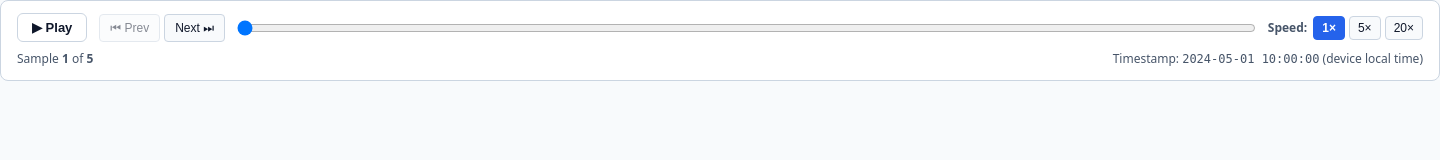
Test: Replay Player Component & Controls (T16-010) › plays at 1x speed, advances samples, and pauses automatically at the end
Click the button named "play replay" at (52, 28), box [17,13,87,42]
Wait 5000 ms
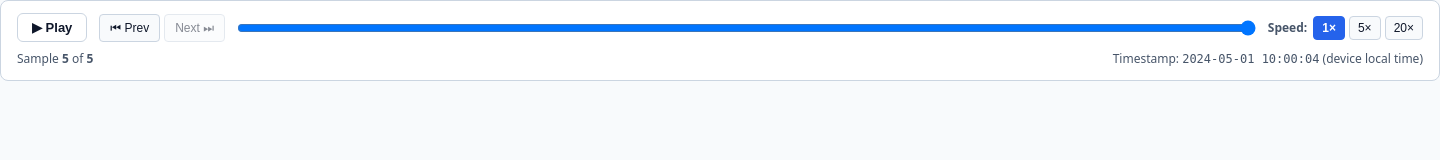
Now the text "2024-05-01 10:00:04" is shown, box [1182,52,1320,66]
